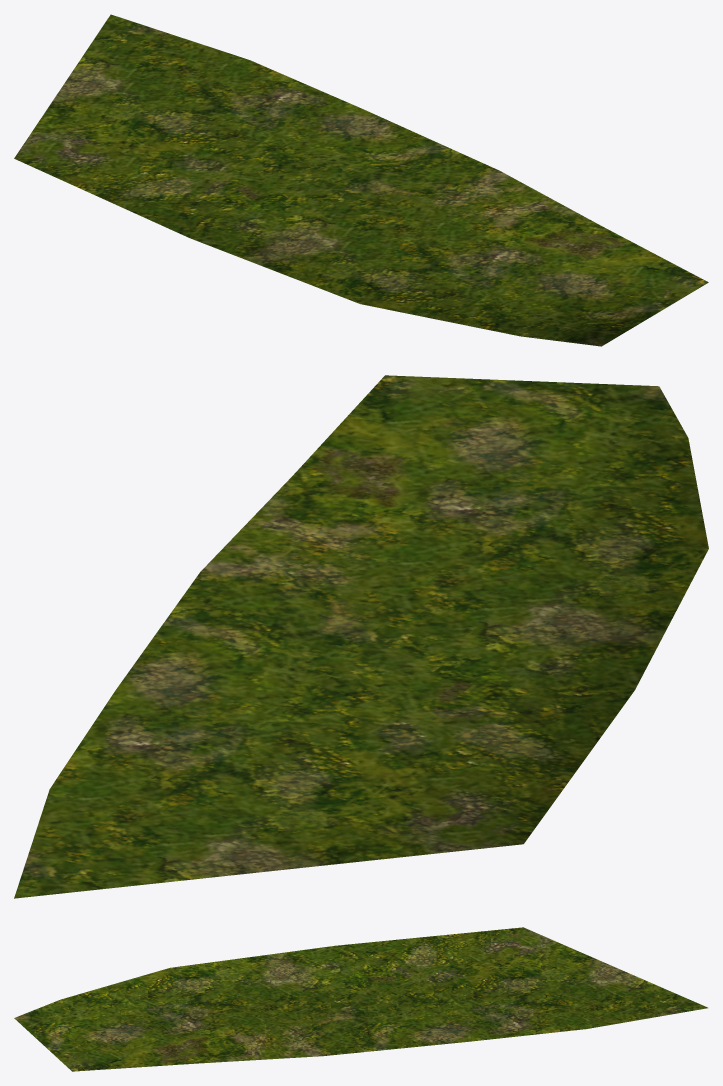
File: OVERHILL_A_01_LINE85.fbx
3 renders of one model, top to bottom at view 1: azimuth 30°, elevation 25°; view 2: azimuth 150°, elevation 25°; view 3: azimuth 270°, elevation 25°, orthographic. The views are drawn at different scales.
Parts seen in each view (by area): view 1: OVERHILL_A_01_LINE85; view 2: OVERHILL_A_01_LINE85; view 3: OVERHILL_A_01_LINE85.
Part boxes in pixels (x1,y1,x2,y2): OVERHILL_A_01_LINE85: [14, 14, 708, 346]; OVERHILL_A_01_LINE85: [14, 375, 708, 898]; OVERHILL_A_01_LINE85: [14, 927, 707, 1071].
Bounding box in the file's own units: 26234 × 7.52 × 53367.
1 material, 1 textured.
